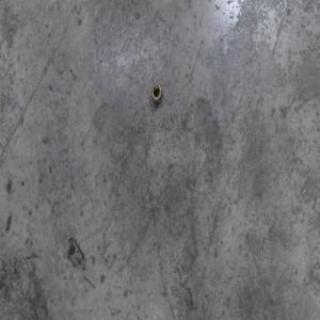Nuttrack_idkeyframe: (148, 80, 162, 106)
